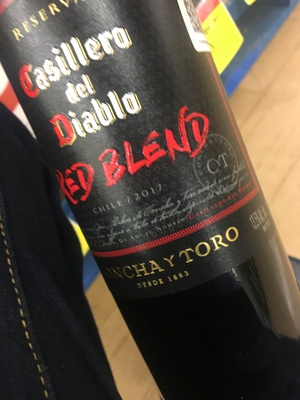casillero del diablo red blend: (1, 6, 281, 321)
